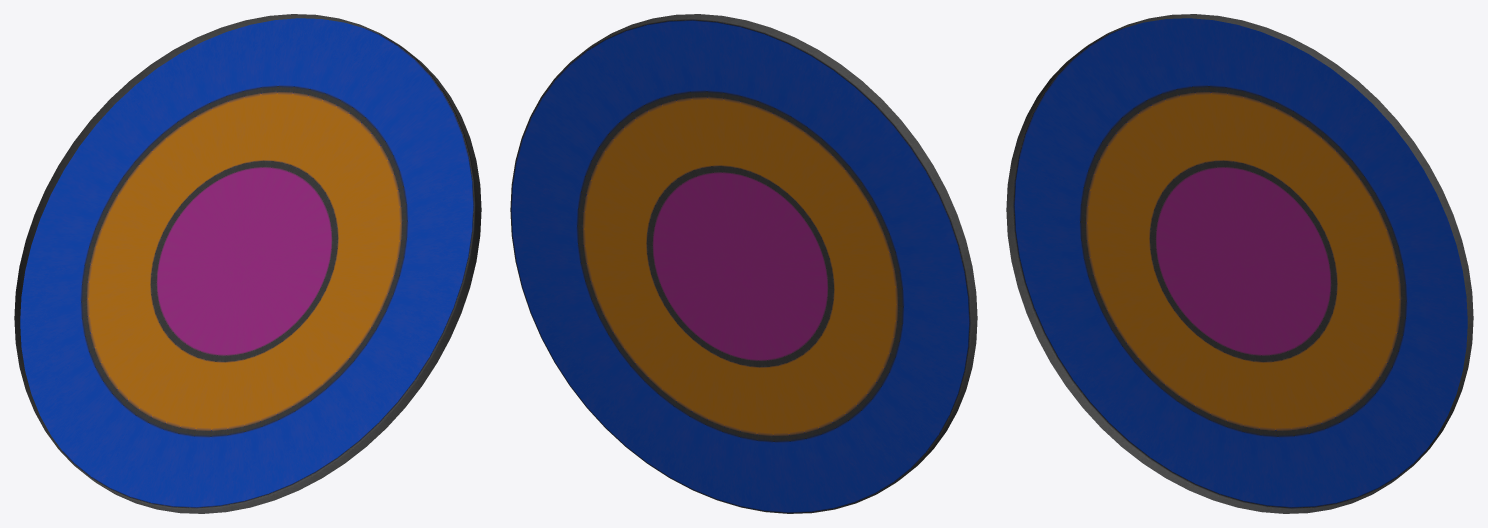
The model's file is DartBoard.fbx.
The picture shows the model from 3 angles, left to right: view 1: azimuth 30°, elevation 25°; view 2: azimuth 150°, elevation 25°; view 3: azimuth 330°, elevation 25°; orthographic projection.
Parts seen in each view (by area): view 1: DartBoard; view 2: DartBoard; view 3: DartBoard.
Boxes of the visible parts, x1,y1,x2,y2 form: DartBoard: (14, 14, 481, 513); DartBoard: (510, 14, 977, 513); DartBoard: (1006, 14, 1473, 513).
Size of the model in its own units: 48.85 by 48.85 by 1.18.
